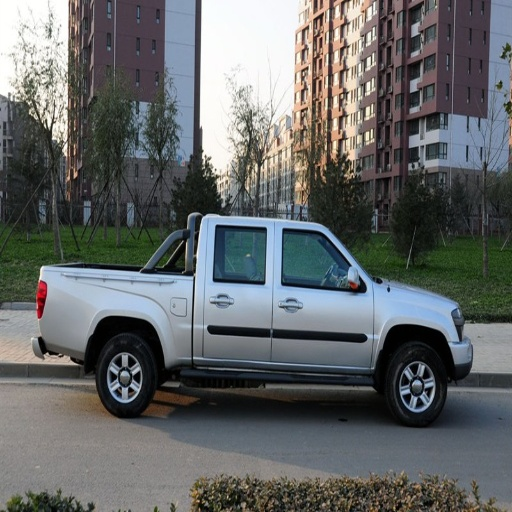back_left_light: (197, 221, 276, 363)
front_left_light: (271, 224, 374, 369)
tailgate: (43, 272, 188, 365)
trunk: (387, 344, 447, 425), (96, 334, 155, 416)
